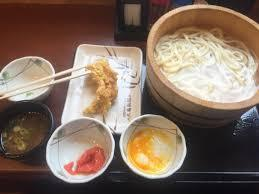kamaage: (145, 4, 259, 125)
